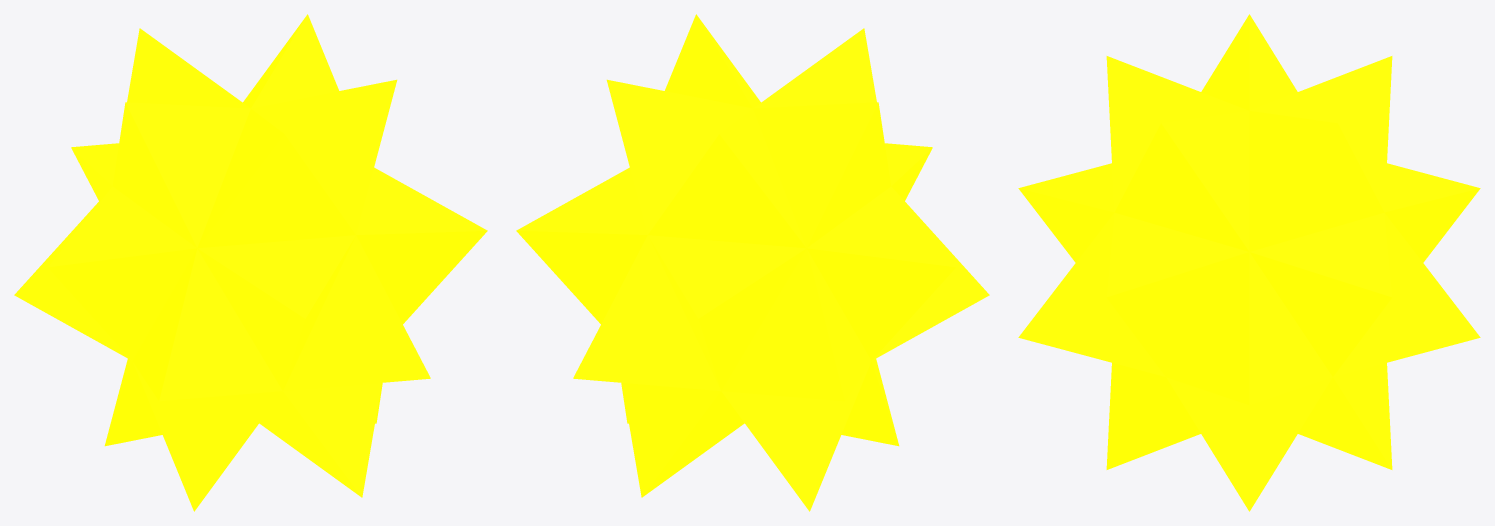
Rendered from polygonal_star.glb.
3 views of the same model, side by side, from view 1: azimuth 30°, elevation 25°; view 2: azimuth 150°, elevation 25°; view 3: azimuth 270°, elevation 25° (orthographic).
Parts seen in each view (by area): view 1: ICO球.001; view 2: ICO球.001; view 3: ICO球.001.
Boxes of the visible parts, x1,y1,x2,y2 form: ICO球.001: (14, 14, 487, 511); ICO球.001: (516, 14, 989, 511); ICO球.001: (1018, 14, 1480, 511).
Size of the model in its own units: 0.2 by 0.18 by 0.2.
